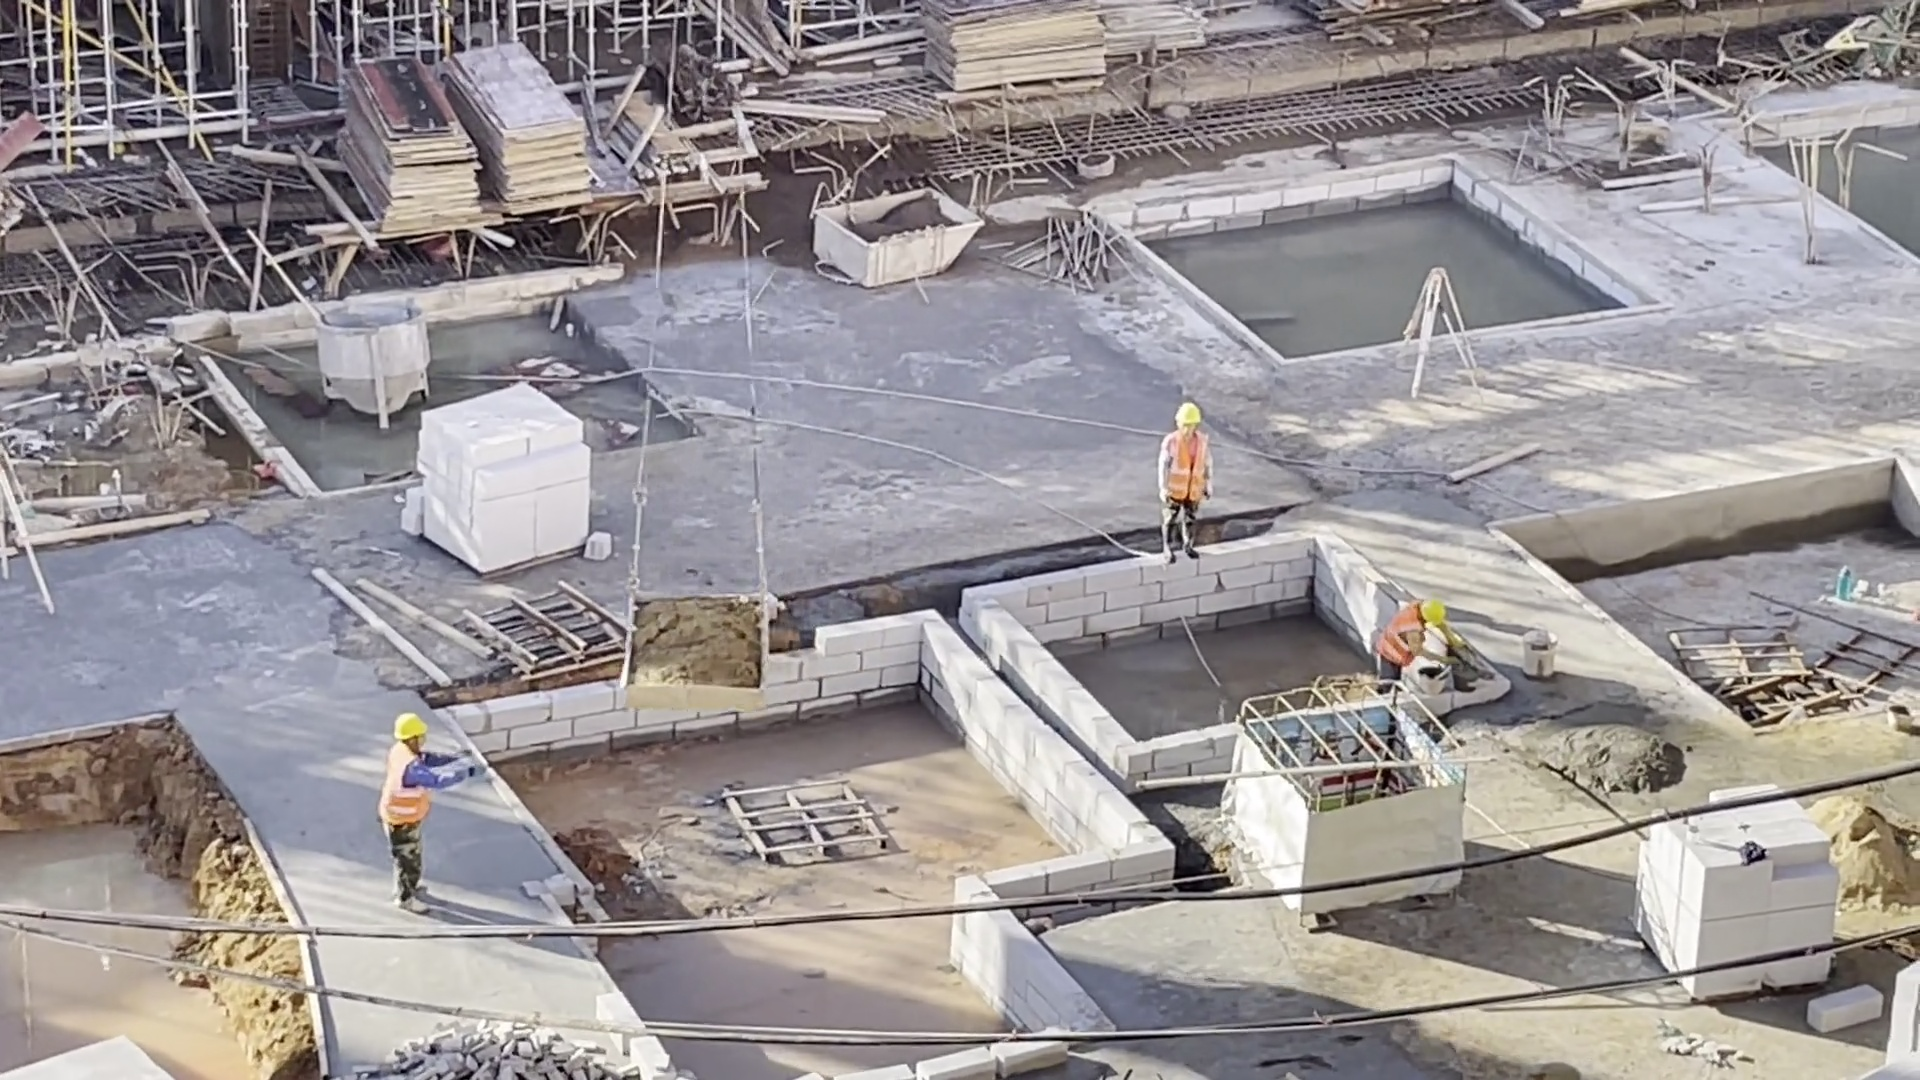board: (336, 56, 491, 243), (445, 37, 600, 220), (906, 2, 1112, 106)
brick: (397, 379, 590, 579), (1635, 824, 1835, 954)
helmet: (391, 713, 427, 740), (1417, 598, 1449, 627), (1171, 402, 1203, 425)
hopper: (606, 589, 780, 713), (802, 185, 984, 295), (317, 298, 433, 431)
person: (1154, 401, 1219, 564), (1376, 592, 1467, 692)
vest: (373, 710, 500, 914), (375, 742, 432, 825), (1162, 429, 1211, 505), (1376, 599, 1424, 664)
